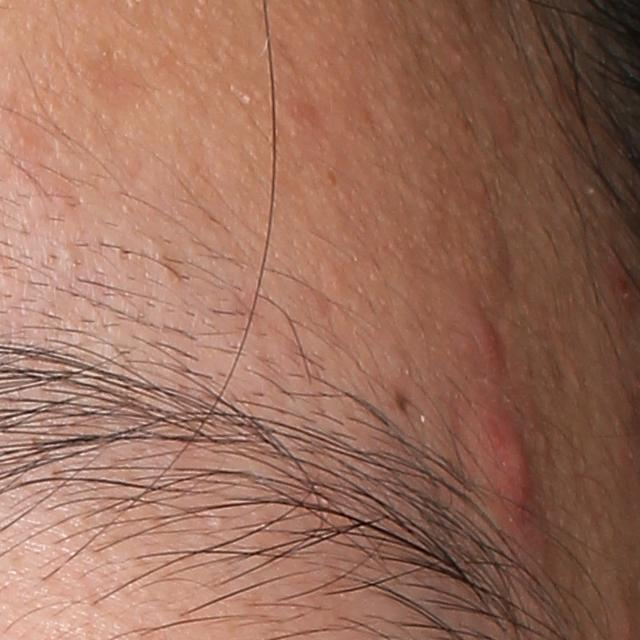comedo: (54, 238, 87, 266)
papule: (478, 406, 532, 536), (467, 300, 504, 374)
